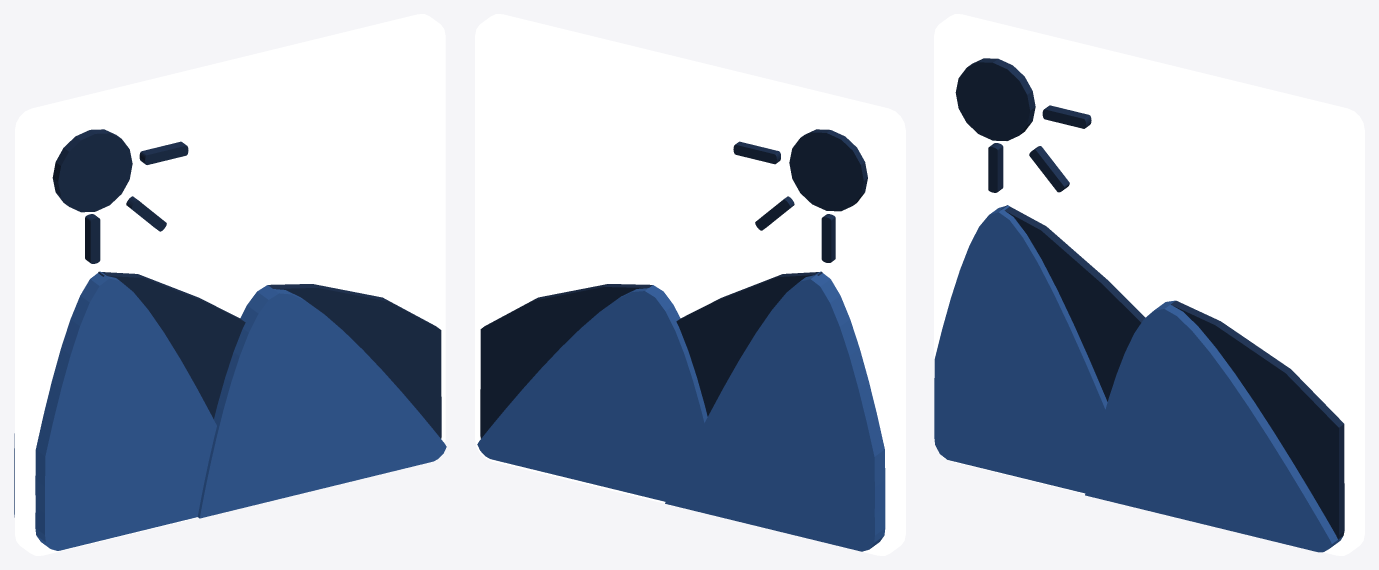
3 renders of one model, left to right at view 1: azimuth 30°, elevation 25°; view 2: azimuth 150°, elevation 25°; view 3: azimuth 330°, elevation 25°, orthographic.
Visible parts, largest first — view 1: iconImage; view 2: iconImage; view 3: iconImage.
Part boxes in pixels (x1,y1,x2,y2): iconImage: (14,14,446,555); iconImage: (475,14,905,555); iconImage: (934,14,1364,555).
Bounding box in the file's own units: 0.5918 × 0.5917 × 0.08.
